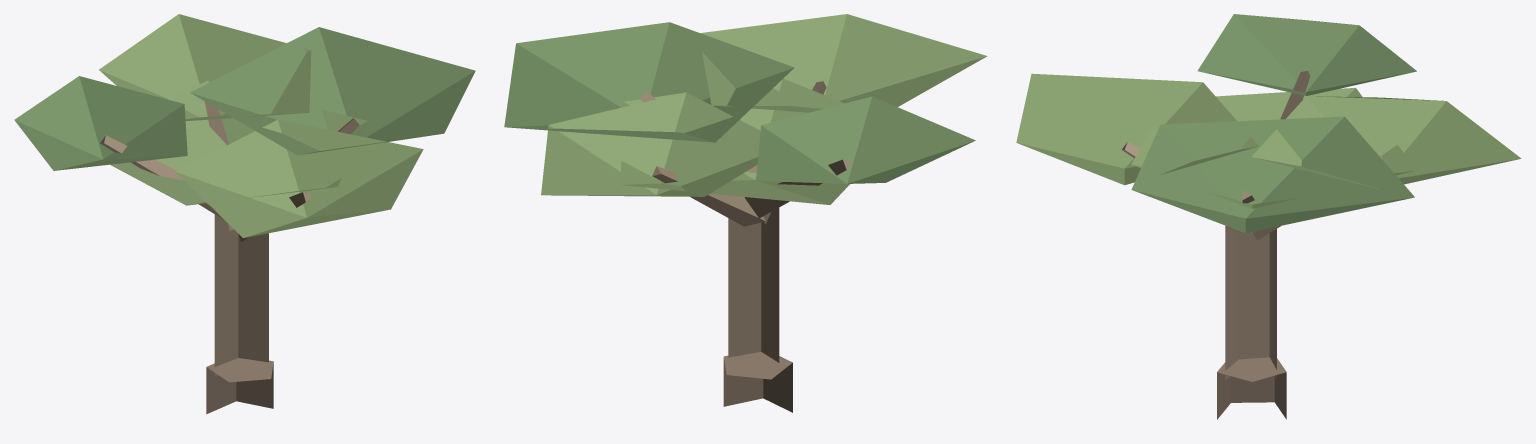
File: tree.sub.acacia__summer.glb
3 renders of one model, left to right at view 1: azimuth 30°, elevation 25°; view 2: azimuth 150°, elevation 25°; view 3: azimuth 270°, elevation 25°, orthographic. The views are drawn at different scales.
Parts seen in each view (by area): view 1: tree.sub.acacia__summer; view 2: tree.sub.acacia__summer; view 3: tree.sub.acacia__summer.
Part boxes in pixels (box(x1,y1,x2,y2)): tree.sub.acacia__summer: box(14, 14, 475, 414); tree.sub.acacia__summer: box(504, 14, 987, 412); tree.sub.acacia__summer: box(1016, 14, 1521, 419).
Bounding box in the file's own units: 8.67 × 6.51 × 8.79.
